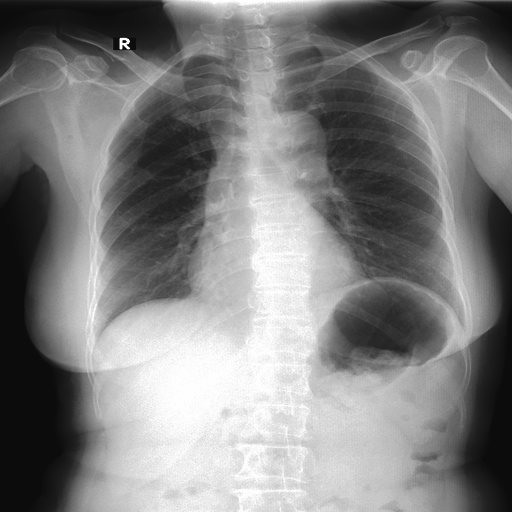Consolidation: (283, 110, 327, 160)
